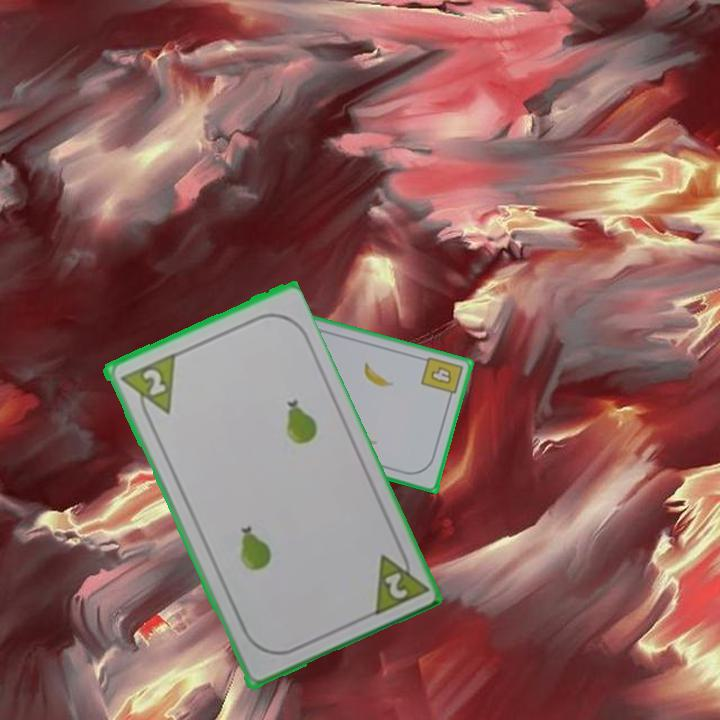2p: (367, 541, 429, 619), (115, 350, 178, 425)
4b: (417, 353, 466, 404)
